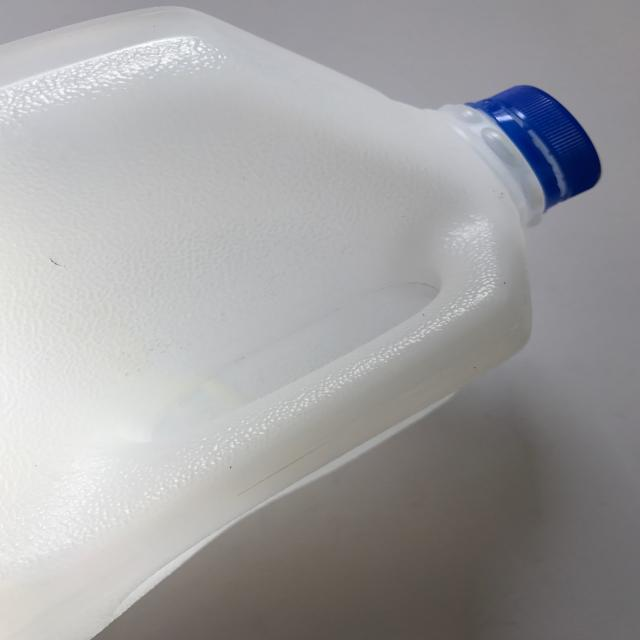plastic: (0, 4, 603, 638)
